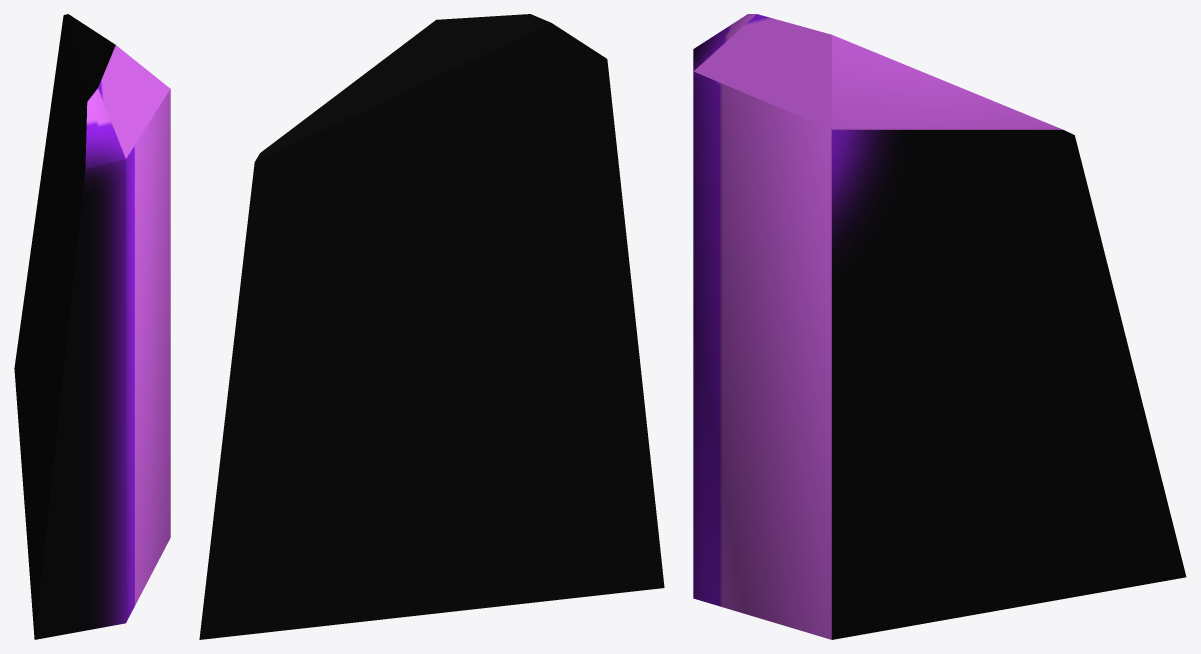
File: blockParticle_8.obj
3 renders of one model, left to right at view 1: azimuth 30°, elevation 25°; view 2: azimuth 150°, elevation 25°; view 3: azimuth 270°, elevation 25°, orthographic. The views are drawn at different scales.
Visible parts, largest first — view 1: 立方体_cell.009; view 2: 立方体_cell.009; view 3: 立方体_cell.009.
Boxes of the visible parts, bbox=[...] form: 立方体_cell.009: bbox=[14, 14, 170, 639]; 立方体_cell.009: bbox=[199, 14, 664, 639]; 立方体_cell.009: bbox=[693, 14, 1186, 639].
Size of the model in its own units: 0.3955 by 1 by 0.755.
2 materials, 2 textured.
